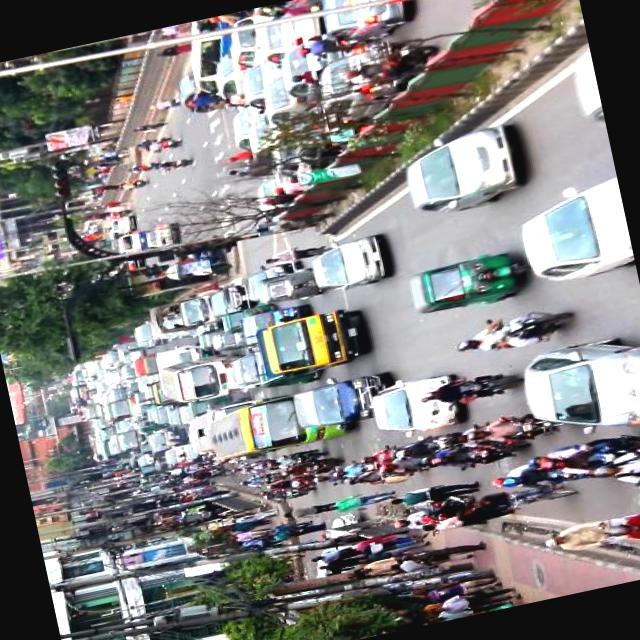bus: (203, 382, 349, 462), (152, 344, 248, 408), (104, 425, 148, 454), (98, 394, 134, 424)
car: (511, 326, 640, 449), (395, 116, 533, 220), (363, 364, 469, 442), (302, 227, 395, 296), (312, 0, 424, 51), (204, 280, 250, 318)
motorcycle: (400, 242, 538, 319), (446, 299, 574, 359), (412, 360, 530, 412), (464, 404, 562, 450), (252, 262, 324, 308), (278, 450, 344, 480), (265, 442, 331, 470), (188, 458, 234, 482), (186, 392, 229, 413)
truck: (234, 298, 374, 388), (288, 367, 398, 432)
